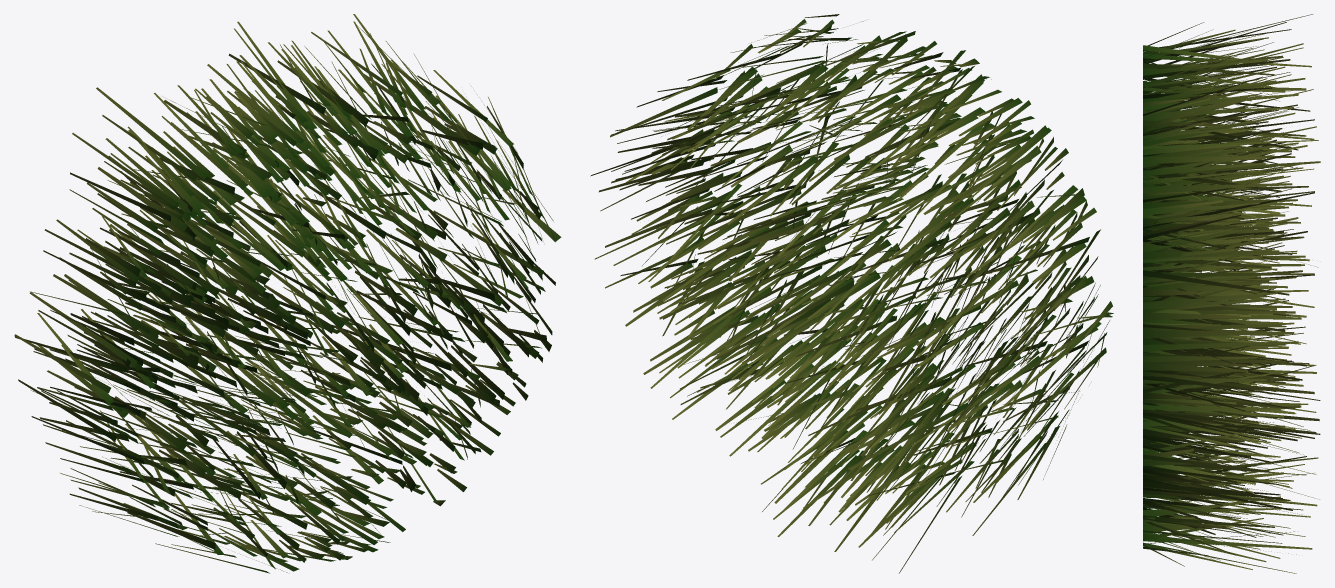
The model's file is Turf_Wild.glb.
3 renders of one model, left to right at view 1: azimuth 30°, elevation 25°; view 2: azimuth 150°, elevation 25°; view 3: azimuth 270°, elevation 25°, orthographic. The views are drawn at different scales.
Parts seen in each view (by area): view 1: Turf_Wild; view 2: Turf_Wild; view 3: Turf_Wild.
Part boxes in pixels (bbox=[...]): Turf_Wild: bbox=[14, 14, 561, 573]; Turf_Wild: bbox=[590, 14, 1113, 573]; Turf_Wild: bbox=[1143, 14, 1320, 573].
Bounding box in the file's own units: 1.23 × 1.21 × 0.383.
